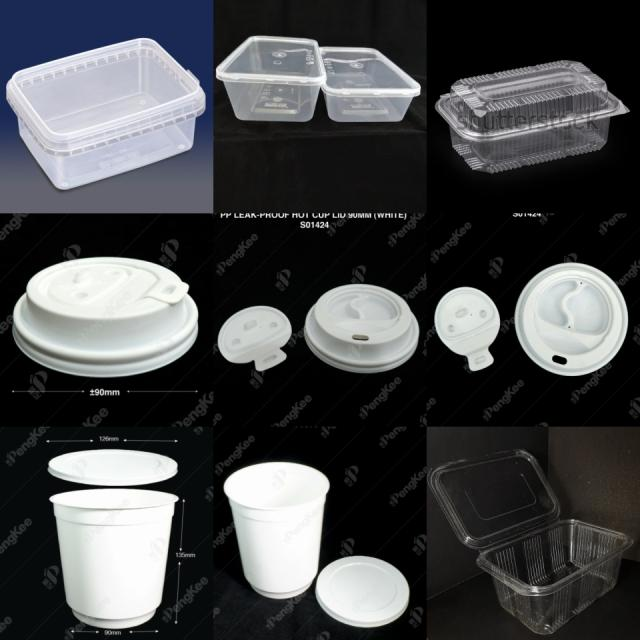Single-Use-Plastic: (429, 450, 632, 634), (6, 39, 205, 190), (12, 258, 198, 377), (435, 60, 629, 172), (50, 489, 179, 629), (224, 462, 330, 599), (515, 262, 628, 376), (305, 284, 419, 373), (216, 36, 326, 121), (320, 48, 420, 121), (315, 556, 409, 628), (435, 288, 500, 371), (49, 449, 178, 486), (218, 306, 291, 371)
